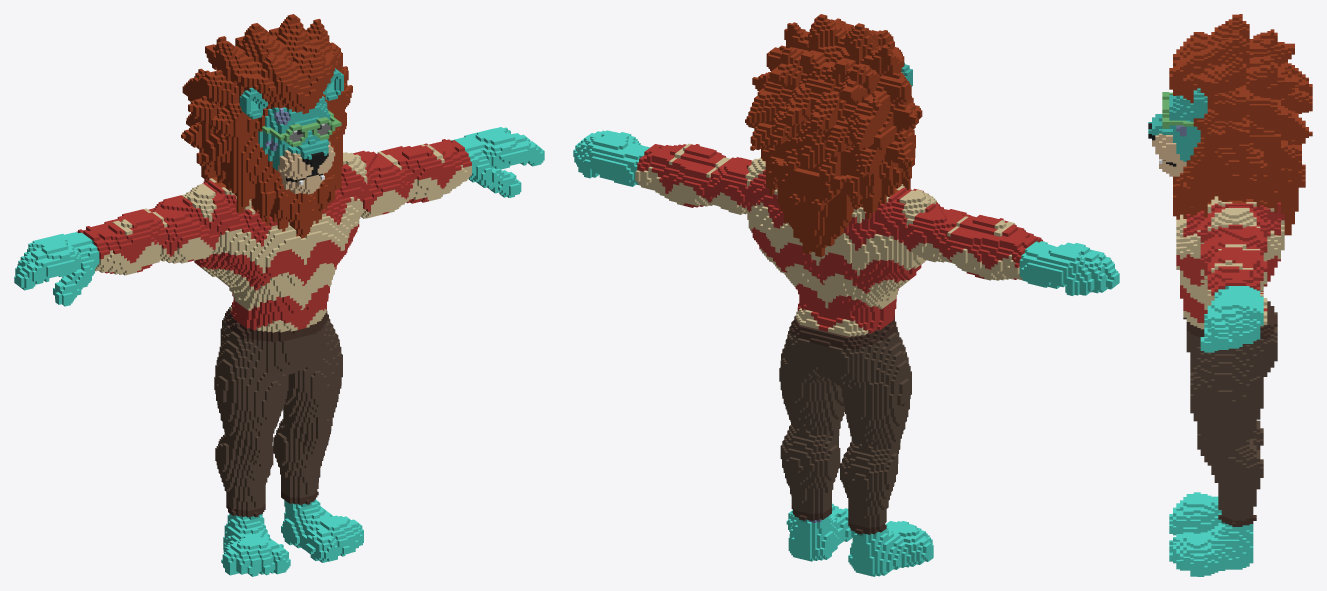
Rendered from 773-DL-aot68.fbx.
3 views of the same model, side by side, from view 1: azimuth 30°, elevation 25°; view 2: azimuth 150°, elevation 25°; view 3: azimuth 270°, elevation 25° (orthographic). The views are drawn at different scales.
Visible parts, largest first — view 1: standard.001; view 2: standard.001; view 3: standard.001.
Boxes of the visible parts, box(x1,y1,x2,y2) form: standard.001: box(14, 14, 544, 576); standard.001: box(573, 14, 1119, 576); standard.001: box(1148, 14, 1312, 576).
Size of the model in its own units: 17.2 by 16.5 by 4.7.
5 materials, 5 textured.
